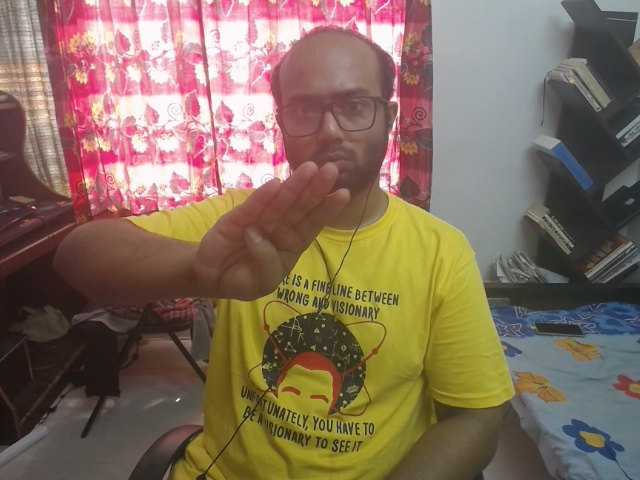counting: (182, 137, 360, 320)
